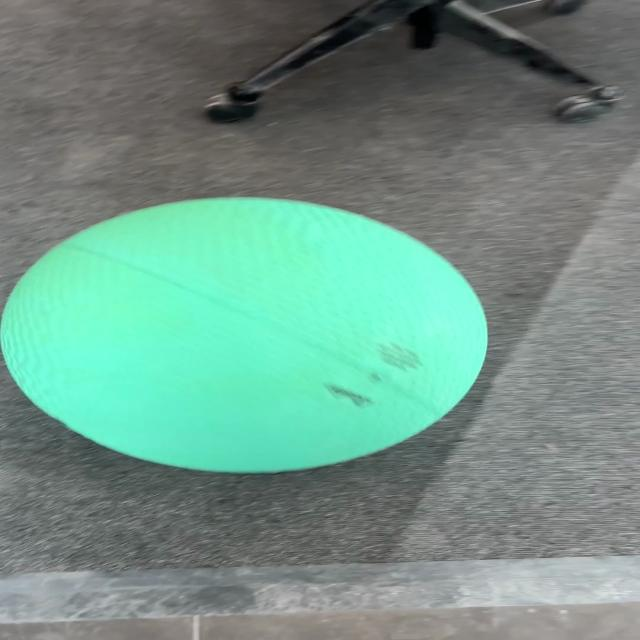Algae: (1, 195, 490, 475)
